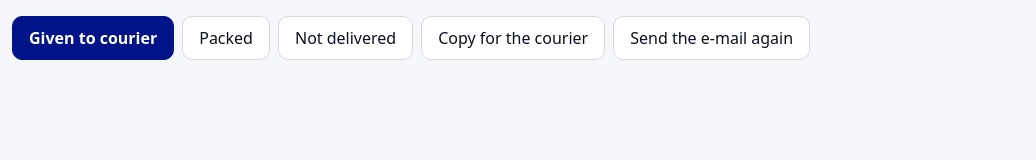
Test: the repeat e-mail button › sends the confirmation of a paid order with one press and says it is queued
Step 1. Click the button with test id "shop-order-resend" → (712, 38), box top-left (613, 16), bottom-right (810, 60)
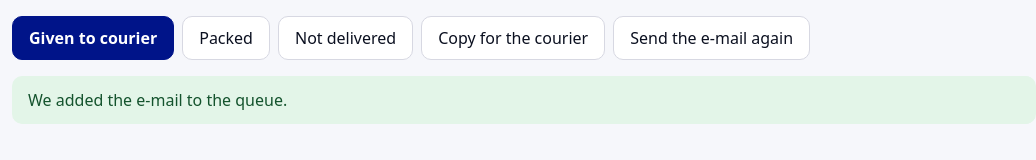
Result: the message with test id "shop-order-note" reads "We added the e-mail to the queue." at top-left (28, 89), bottom-right (287, 111)
